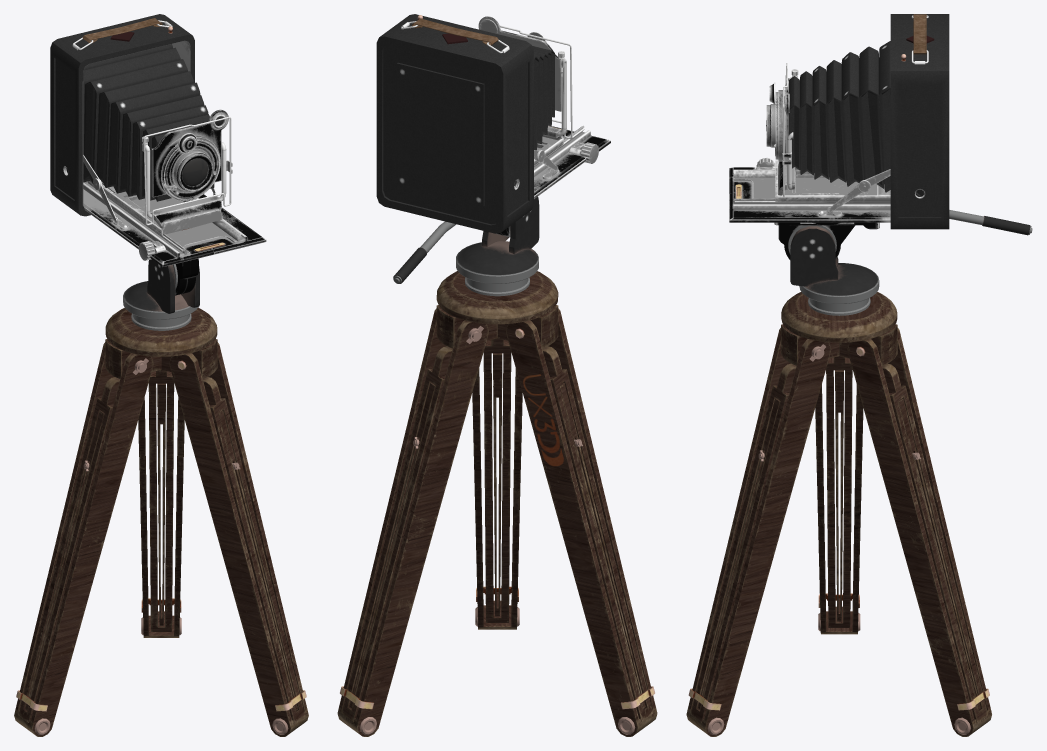
The model's file is AntiqueCamera.glb.
3 views of the same model, side by side, from view 1: azimuth 30°, elevation 25°; view 2: azimuth 150°, elevation 25°; view 3: azimuth 270°, elevation 25° (orthographic). The views are drawn at different scales.
Visible parts, largest first — view 1: tripod, camera; view 2: tripod, camera; view 3: tripod, camera.
Boxes of the visible parts, box(x1,y1,x2,y2) form: tripod: box(14, 258, 308, 736); camera: box(50, 14, 266, 266); tripod: box(337, 196, 657, 736); camera: box(376, 14, 610, 233); tripod: box(686, 210, 1032, 736); camera: box(729, 14, 949, 229).
Size of the model in its own units: 2.6 by 7.21 by 3.39.
Materials: 2 (2 with a texture image).
